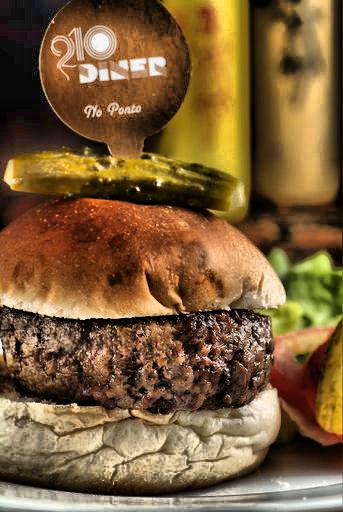burger: (8, 122, 288, 497)
